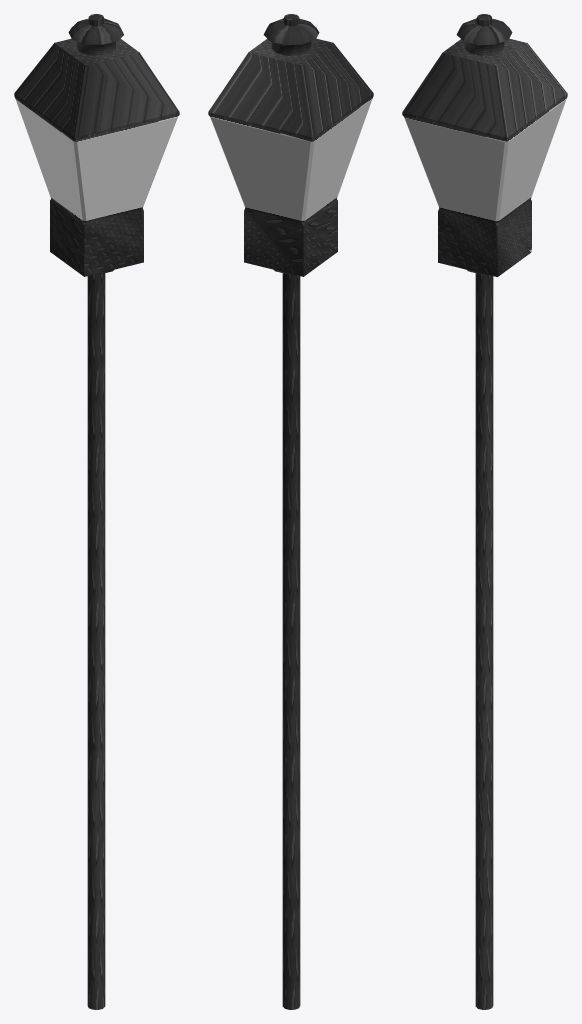
Rendered from lamp_post.dae.
3 views of the same model, side by side, from view 1: azimuth 30°, elevation 25°; view 2: azimuth 150°, elevation 25°; view 3: azimuth 330°, elevation 25° (orthographic).
Parts seen in each view (by area): view 1: polySurface15; view 2: polySurface15; view 3: polySurface15.
Part boxes in pixels (bbox=[...]): polySurface15: bbox=[14, 14, 179, 1009]; polySurface15: bbox=[208, 14, 373, 1009]; polySurface15: bbox=[402, 14, 567, 1009].
Bounding box in the file's own units: 4.66 × 41.97 × 4.66.
